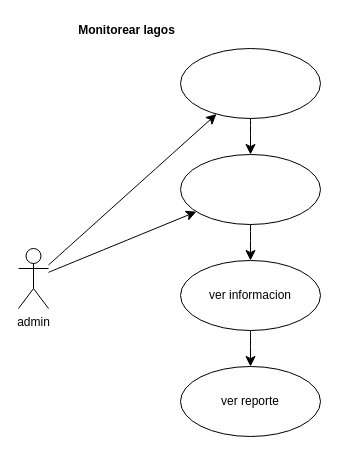
Image size: 338x454. Some labels were removed from this diagram. The shapes that lost their labels are listed below. From the top down, each one's centre as x and y in pixels, then its label:
At (250,83): "modulo monitoriar".
At (250,189): "elegir lago".
